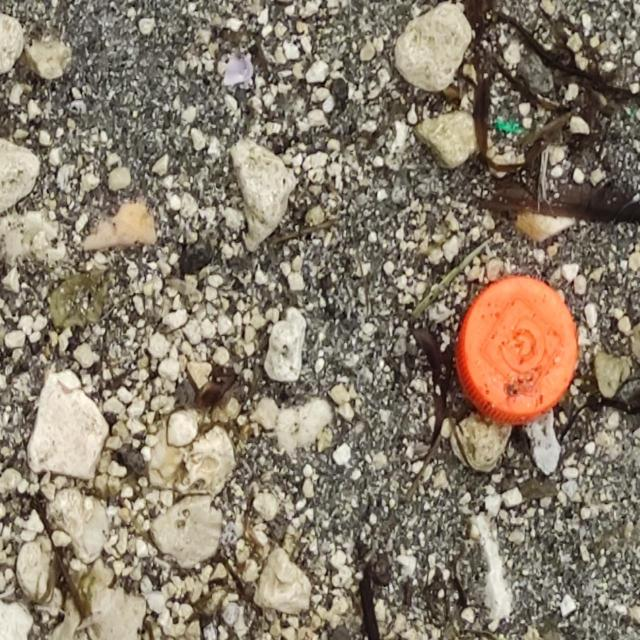plastic_waste: (456, 276, 579, 426)
